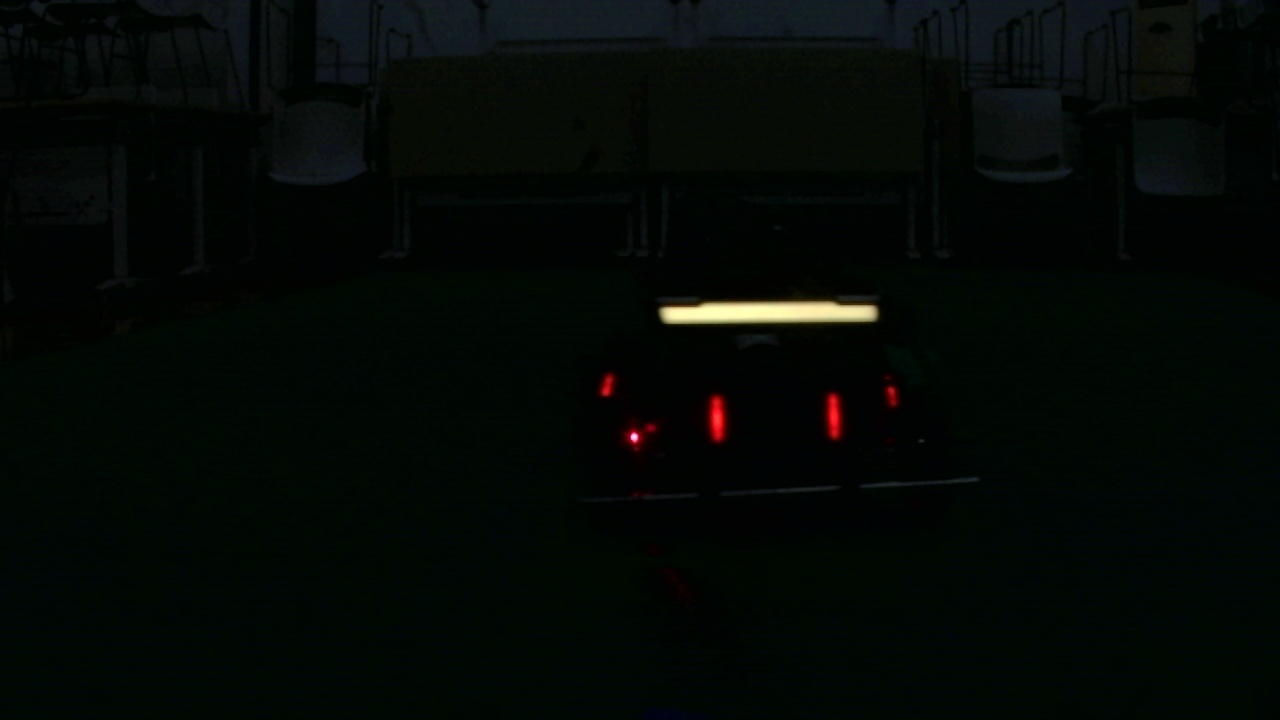lamp: (820, 380, 846, 443), (705, 385, 729, 452)
notpair1: (824, 369, 899, 440)
pair1: (704, 386, 843, 447)
